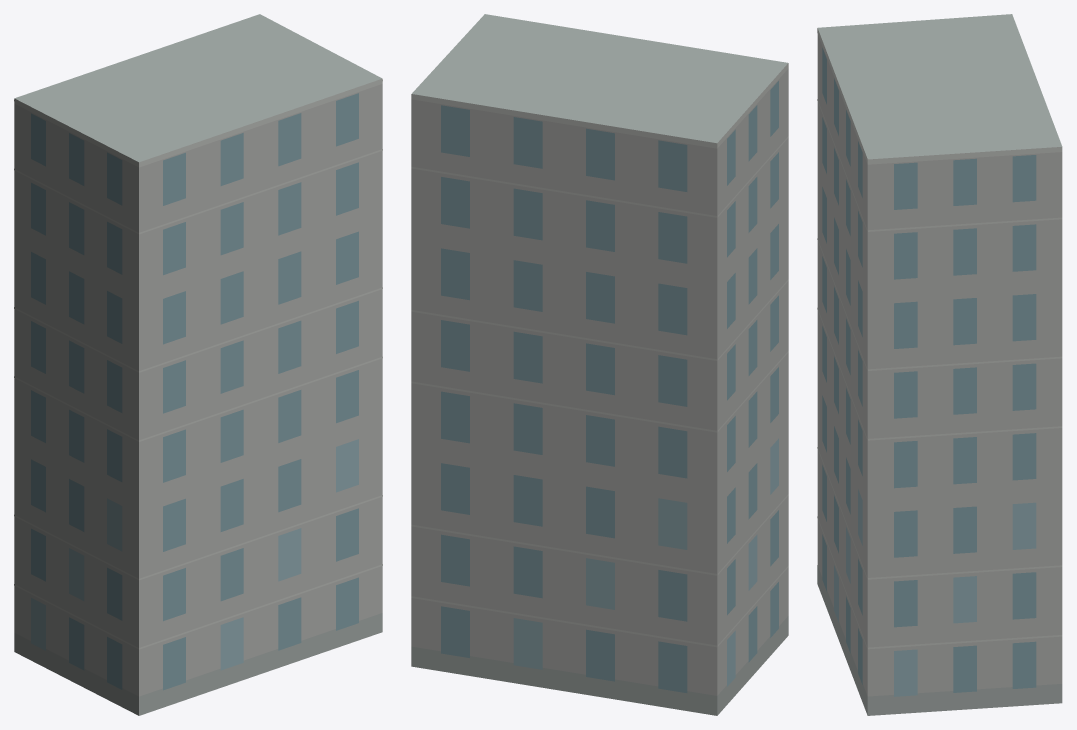
The model's file is survey-upis-32765218.glb.
3 renders of one model, left to right at view 1: azimuth 30°, elevation 25°; view 2: azimuth 150°, elevation 25°; view 3: azimuth 270°, elevation 25°, orthographic. The views are drawn at different scales.
Visible parts, largest first — view 1: survey-upis-32765218.tmp; view 2: survey-upis-32765218.tmp; view 3: survey-upis-32765218.tmp.
Part boxes in pixels (x1,y1,x2,y2): survey-upis-32765218.tmp: (14,14,382,715); survey-upis-32765218.tmp: (411,14,788,715); survey-upis-32765218.tmp: (817,14,1062,715).
Size of the model in its own units: 14.49 by 25.8 by 10.32.
